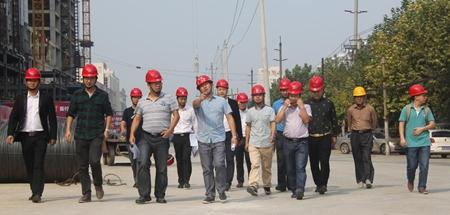boots: (78, 192, 91, 202), (94, 186, 103, 199), (247, 185, 257, 196), (201, 196, 214, 204), (136, 196, 150, 202), (407, 179, 413, 191), (31, 193, 40, 201), (418, 186, 428, 193), (156, 197, 166, 203), (219, 192, 227, 199), (263, 187, 270, 194), (235, 181, 242, 187), (29, 192, 33, 199)
gloves: (130, 142, 139, 159)
hard-hat: (144, 68, 162, 82), (408, 83, 427, 96), (308, 76, 323, 92), (81, 64, 98, 78), (23, 67, 40, 79), (195, 74, 212, 86), (288, 80, 302, 94), (250, 84, 265, 96), (353, 85, 366, 96), (175, 86, 187, 97), (236, 91, 248, 102), (278, 78, 290, 89), (215, 79, 228, 89), (129, 88, 141, 97), (166, 153, 174, 165)
person: (5, 67, 58, 202), (64, 63, 114, 202), (128, 69, 179, 204), (192, 74, 238, 203), (274, 80, 311, 199), (398, 84, 436, 194), (303, 74, 338, 193), (245, 84, 276, 196), (344, 85, 377, 189), (215, 79, 242, 190), (170, 86, 198, 188), (119, 87, 142, 187), (272, 79, 292, 192), (234, 92, 251, 188)
